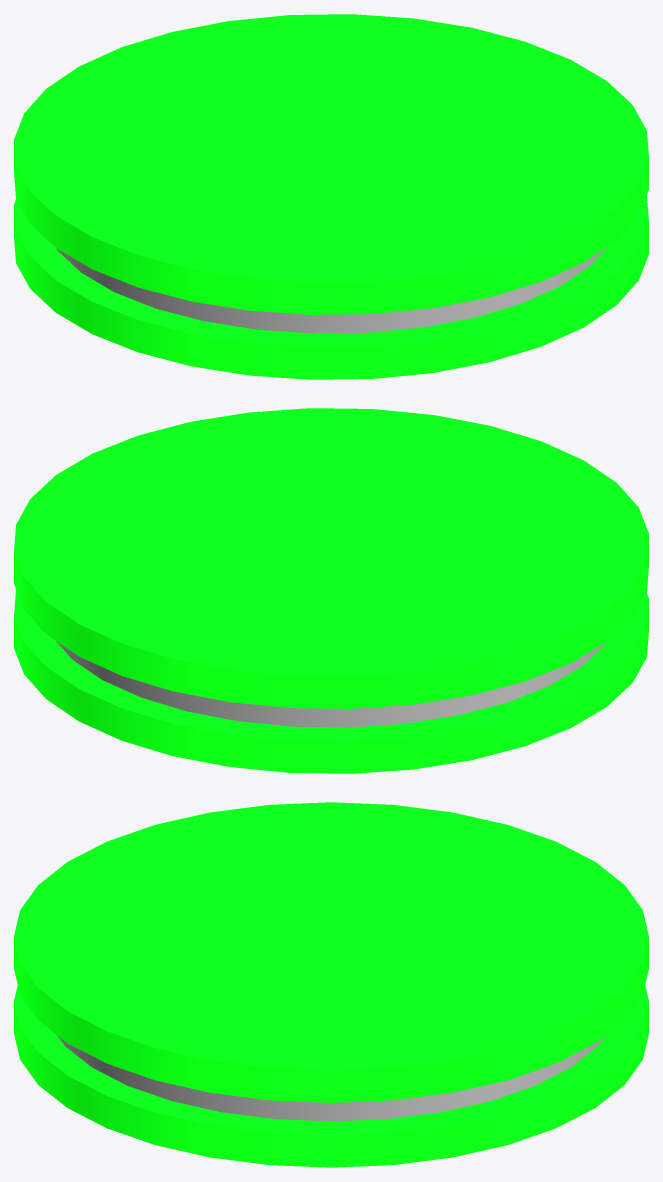
The model's file is platform.fbx.
3 renders of one model, top to bottom at view 1: azimuth 30°, elevation 25°; view 2: azimuth 150°, elevation 25°; view 3: azimuth 270°, elevation 25°, orthographic.
Visible parts, largest first — view 1: Cylinder; view 2: Cylinder; view 3: Cylinder.
Part boxes in pixels (x1,y1,x2,y2): Cylinder: (14, 14, 648, 379); Cylinder: (14, 408, 648, 773); Cylinder: (14, 802, 648, 1167).
Size of the model in its own units: 200 by 33.74 by 200.
